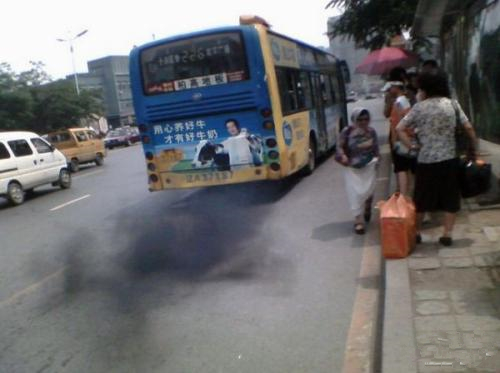smoke: (64, 192, 253, 308)
